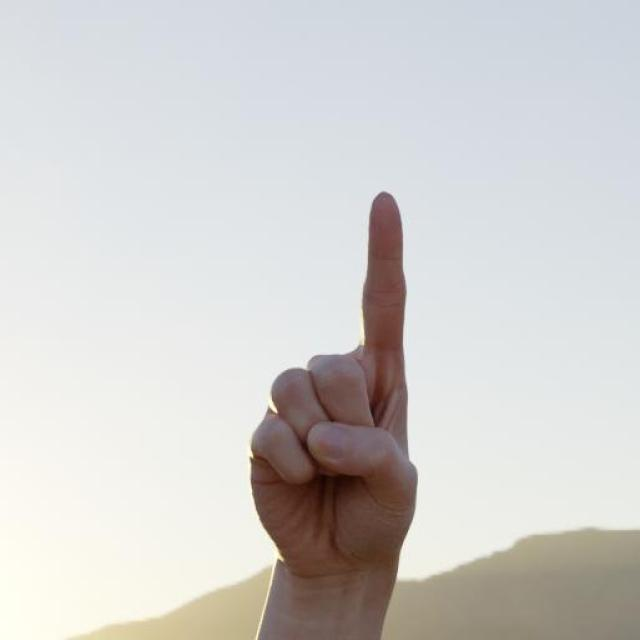Z: (246, 187, 427, 582)
